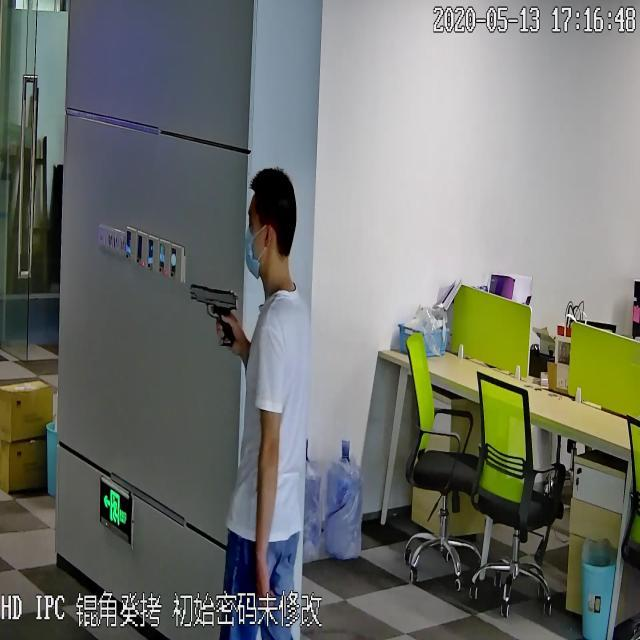gun: (188, 276, 241, 347)
